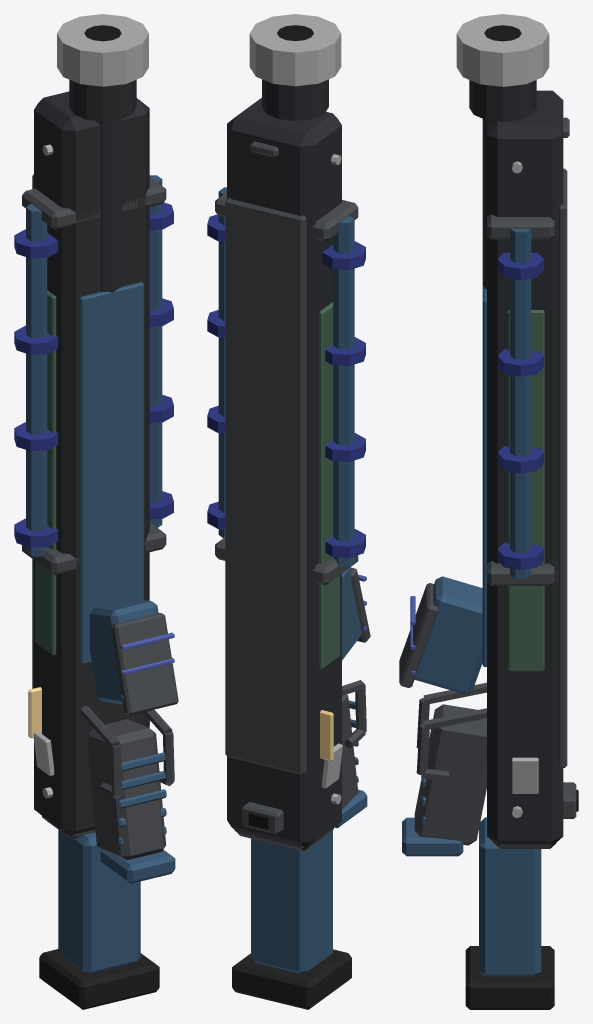
Rendered from weapon_laser_rifle.fbx.
3 renders of one model, left to right at view 1: azimuth 30°, elevation 25°; view 2: azimuth 150°, elevation 25°; view 3: azimuth 270°, elevation 25°, orthographic.
Visible parts, largest first — view 1: weapon_laser_rifle; view 2: weapon_laser_rifle; view 3: weapon_laser_rifle.
Part boxes in pixels (x1,y1,x2,y2): weapon_laser_rifle: (14, 14, 178, 1009); weapon_laser_rifle: (207, 14, 370, 1009); weapon_laser_rifle: (399, 14, 578, 1009).
Bounding box in the file's own units: 0.202 × 1.19 × 0.2014.
